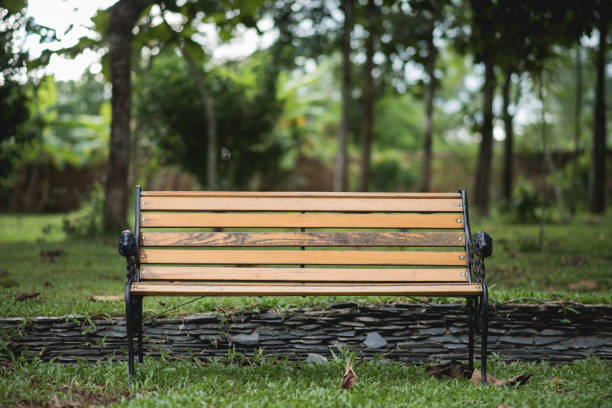bench: (115, 184, 497, 376)
